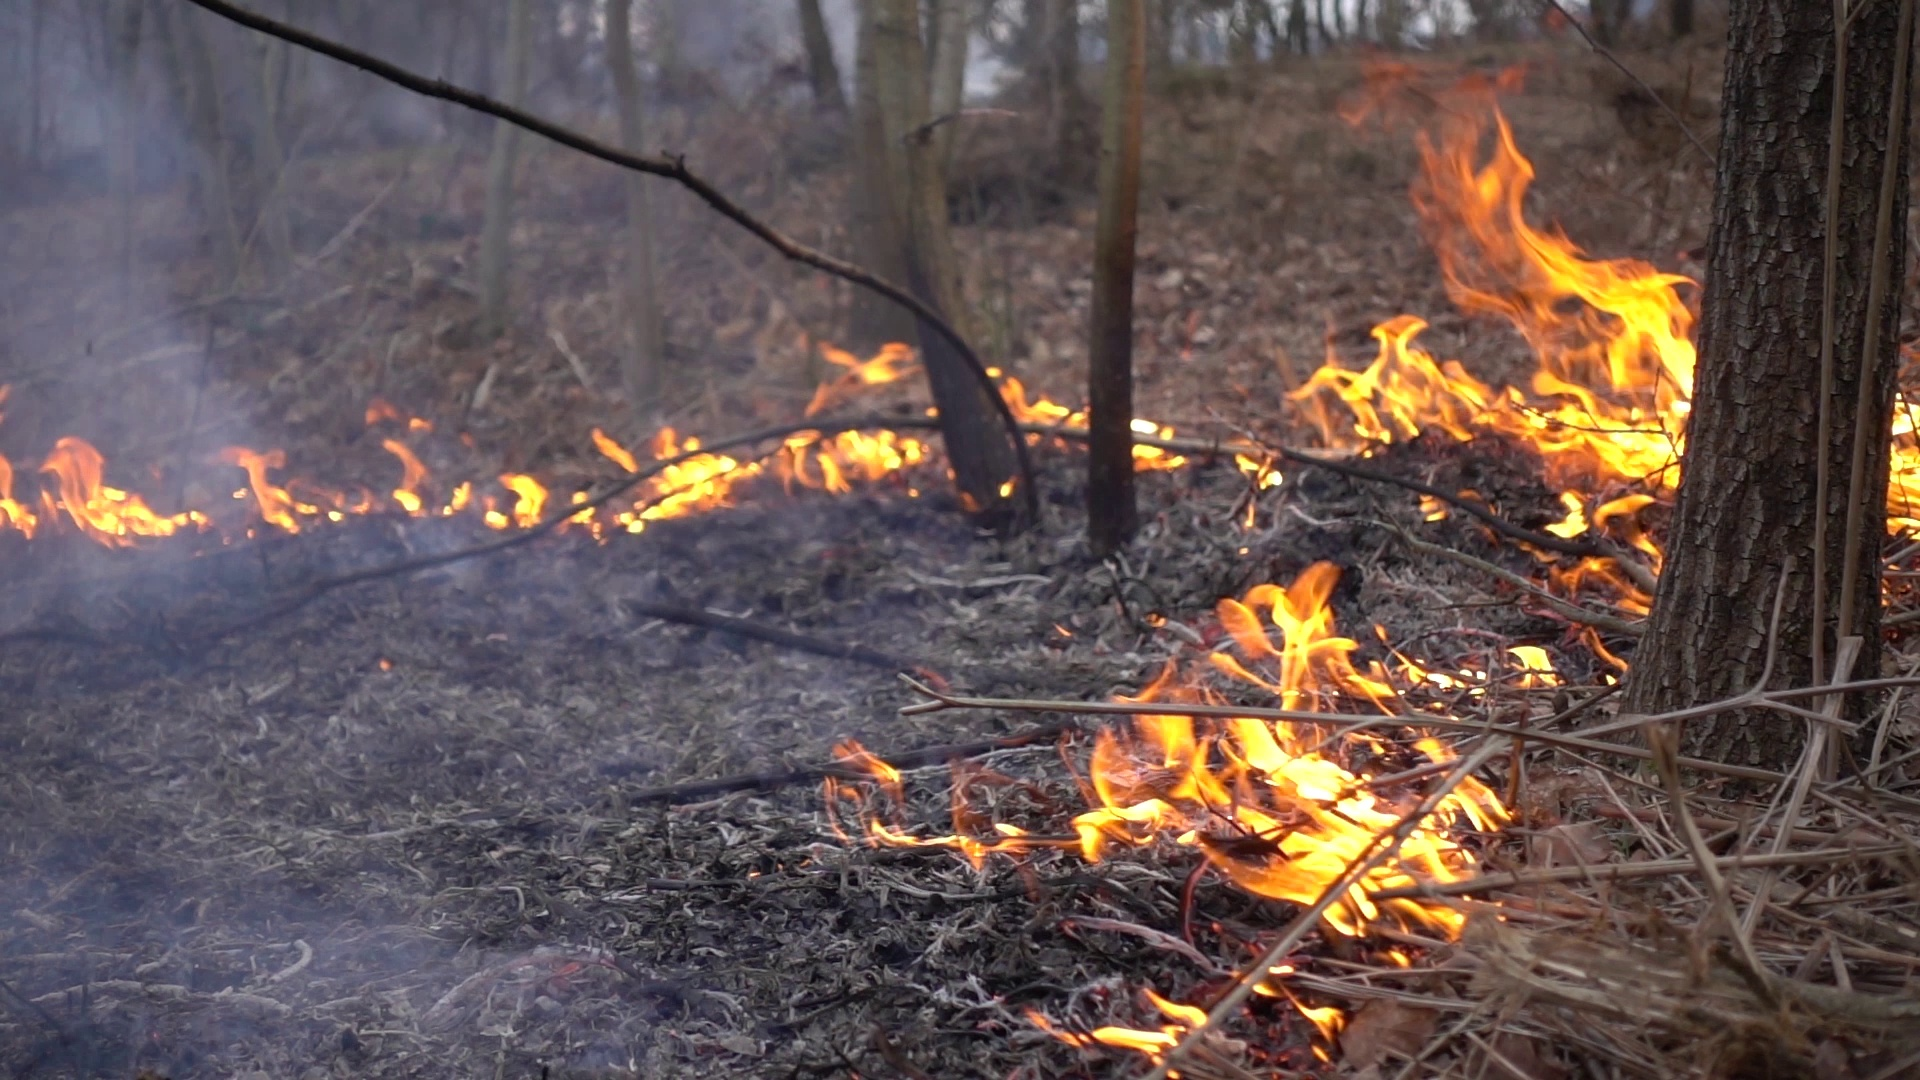fire: (1047, 568, 1509, 953), (1312, 195, 1706, 584), (1, 442, 297, 545), (570, 429, 748, 529), (377, 433, 541, 529), (778, 425, 928, 488), (1886, 407, 1920, 529), (1131, 419, 1174, 472)
